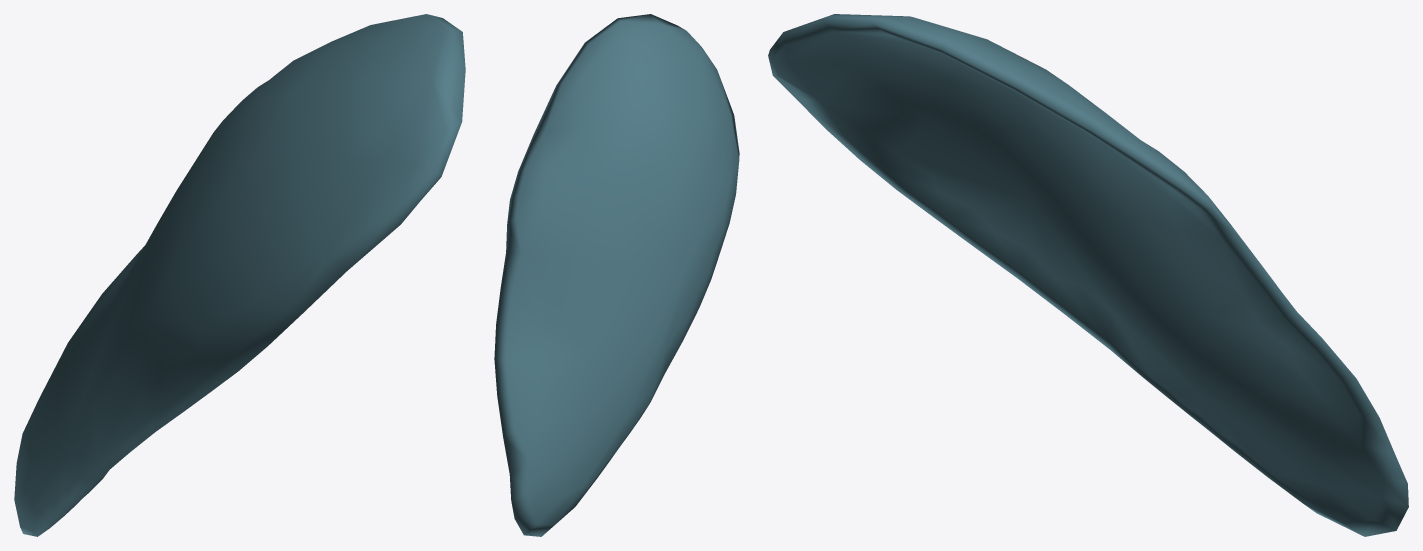
Rendered from Extensor_hallucis_brevis_dorsal_surface_calcaneus_right.glb.
The picture shows the model from 3 angles, left to right: view 1: azimuth 30°, elevation 25°; view 2: azimuth 150°, elevation 25°; view 3: azimuth 270°, elevation 25°; orthographic projection. The views are drawn at different scales.
Parts seen in each view (by area): view 1: Extensor_hallucis_brevis_on_dorsal_surface_of_calcaneus.r_Ge; view 2: Extensor_hallucis_brevis_on_dorsal_surface_of_calcaneus.r_Ge; view 3: Extensor_hallucis_brevis_on_dorsal_surface_of_calcaneus.r_Ge.
Part boxes in pixels (x1,y1,x2,y2): Extensor_hallucis_brevis_on_dorsal_surface_of_calcaneus.r_Ge: (14, 14, 465, 536); Extensor_hallucis_brevis_on_dorsal_surface_of_calcaneus.r_Ge: (494, 14, 739, 536); Extensor_hallucis_brevis_on_dorsal_surface_of_calcaneus.r_Ge: (768, 14, 1408, 536).
Bounding box in the file's own units: 0.00546 × 0.0136 × 0.0137.
